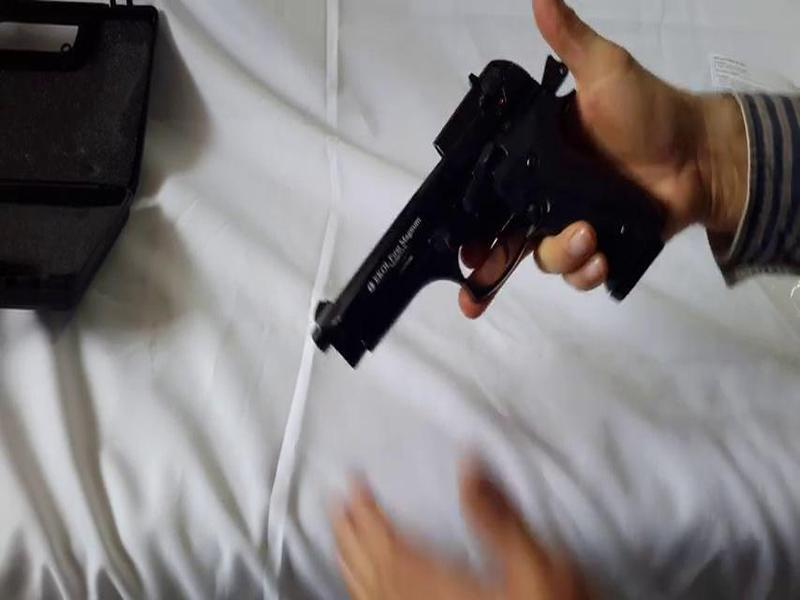Pistola: (294, 28, 691, 394)
